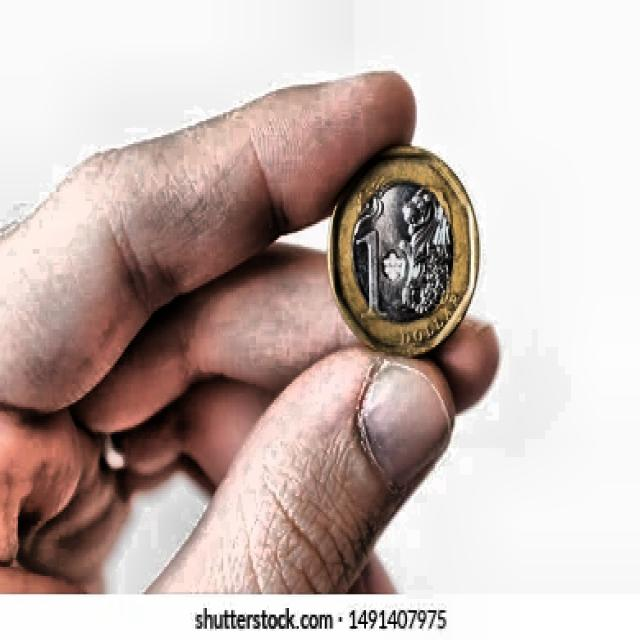coin: (328, 146, 478, 352)
